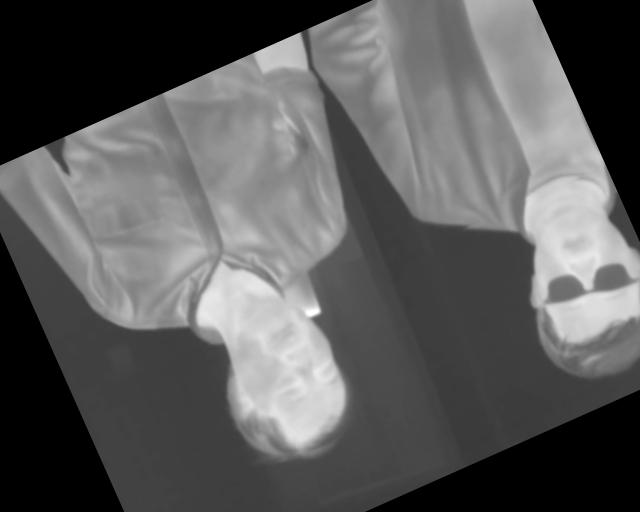face: (192, 280, 373, 483), (494, 186, 640, 398)
